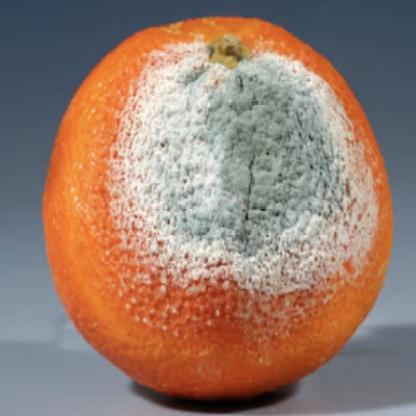rotten: (45, 15, 392, 400)
